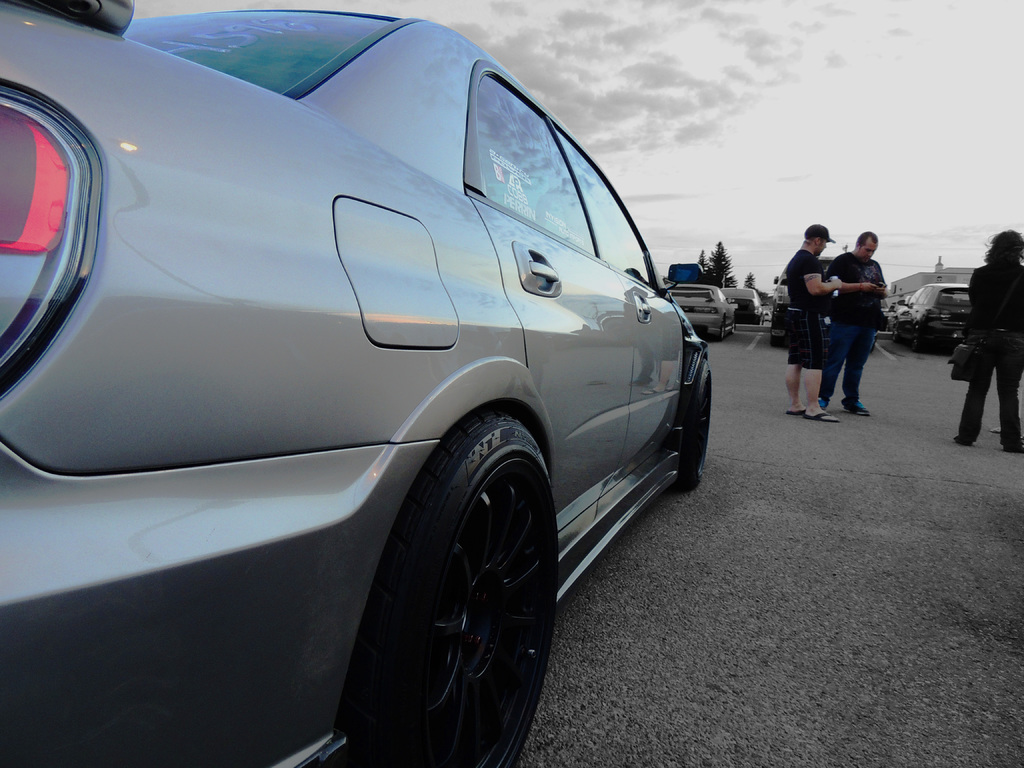Car: (0, 0, 714, 767), (884, 280, 974, 349), (662, 286, 737, 344), (727, 288, 759, 328)
